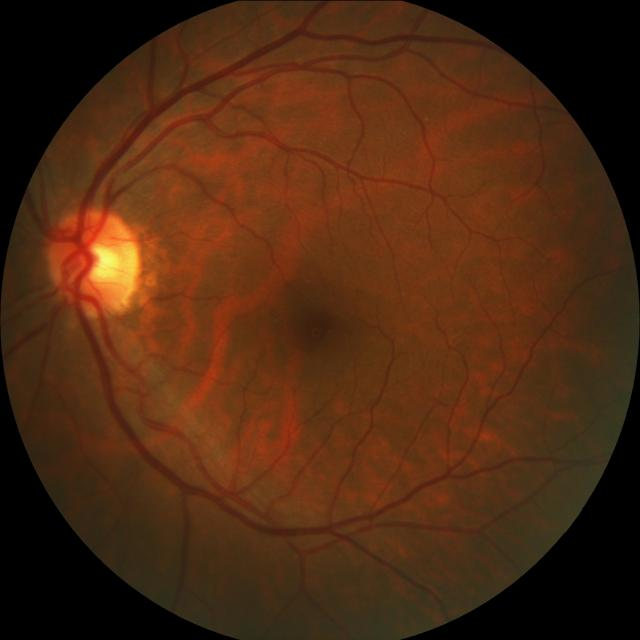OC: (78, 240, 120, 284)
OD: (44, 206, 140, 316)
